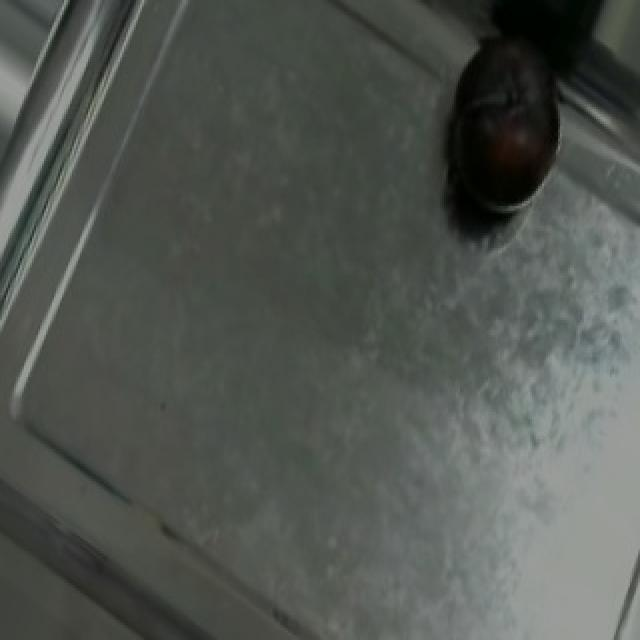Fruit: (430, 72, 586, 236)
